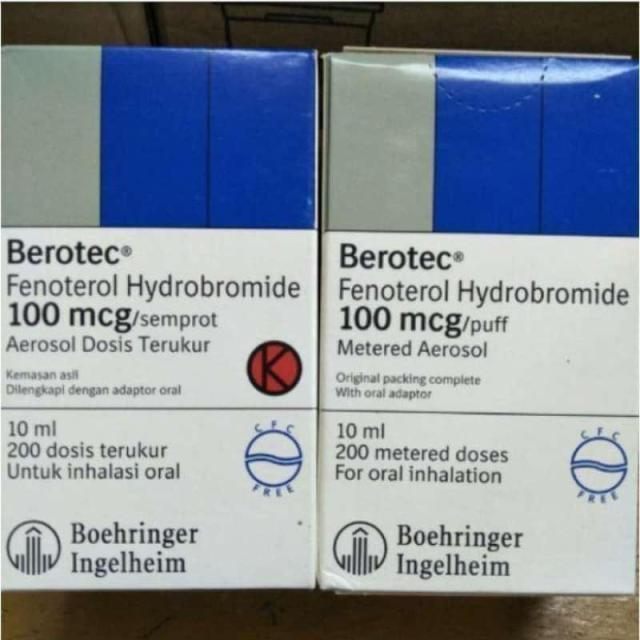drug-name: (5, 232, 124, 272)
